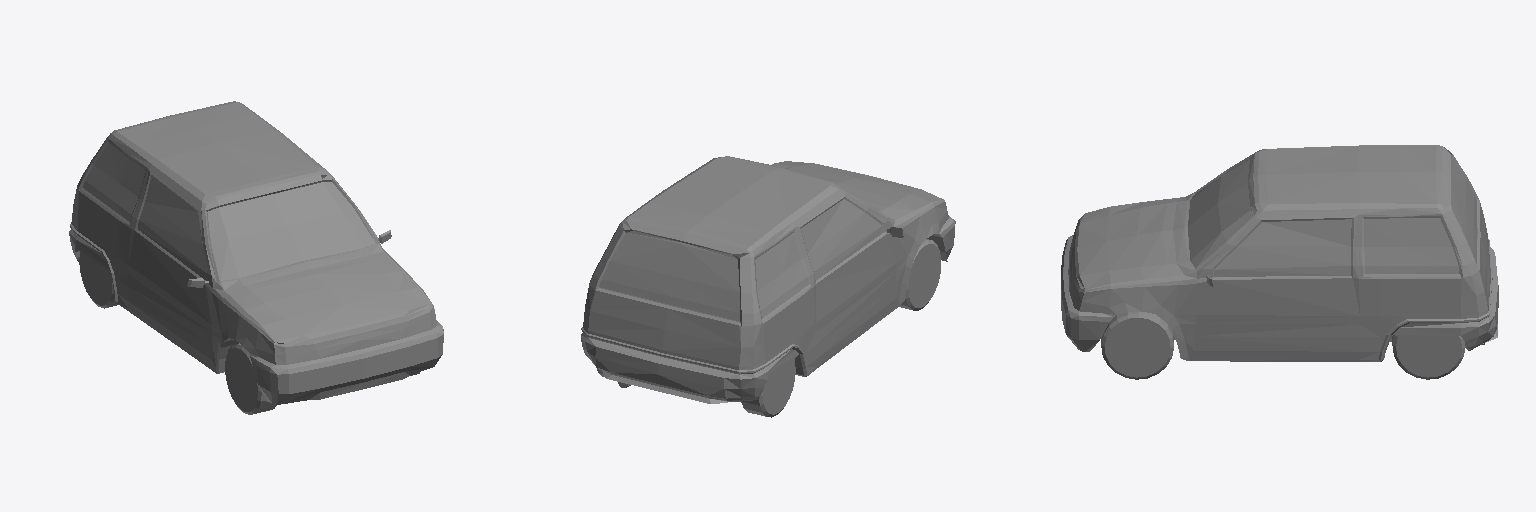
File: dacia.obj
The picture shows the model from 3 angles: view 1: azimuth 30°, elevation 25°; view 2: azimuth 150°, elevation 25°; view 3: azimuth 270°, elevation 25°; orthographic projection.
Visible parts, largest first — view 1: body, wheel, wheel01; view 2: body, wheel, wheel01; view 3: body, wheel03, wheel02.
Part boxes in pixels (x1,y1,x2,y2): body: (69,101,443,404); wheel: (225,343,276,414); wheel01: (79,251,117,308); body: (581,156,955,403); wheel: (899,239,940,310); wheel01: (741,359,795,417); body: (1061,145,1498,361); wheel03: (1101,312,1173,379); wheel02: (1392,335,1465,379).
Size of the model in its own units: 1.74 by 1.37 by 3.24.